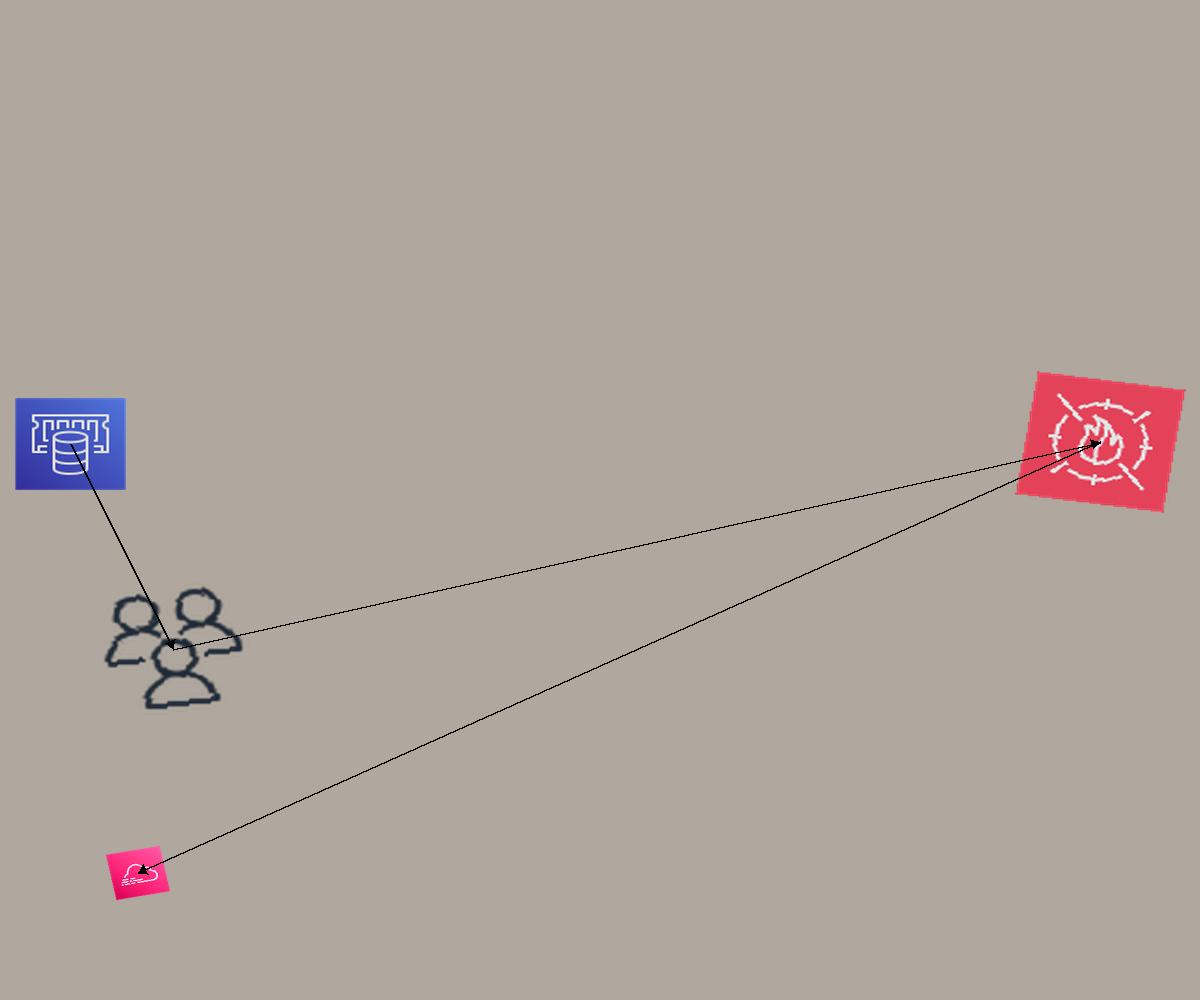AWS-CloudTrail: (106, 846, 170, 900)
AWS-ElastiCache: (14, 397, 127, 491)
AWS-Res_Users: (86, 576, 261, 722)
AWS-WAF: (1015, 371, 1186, 513)
